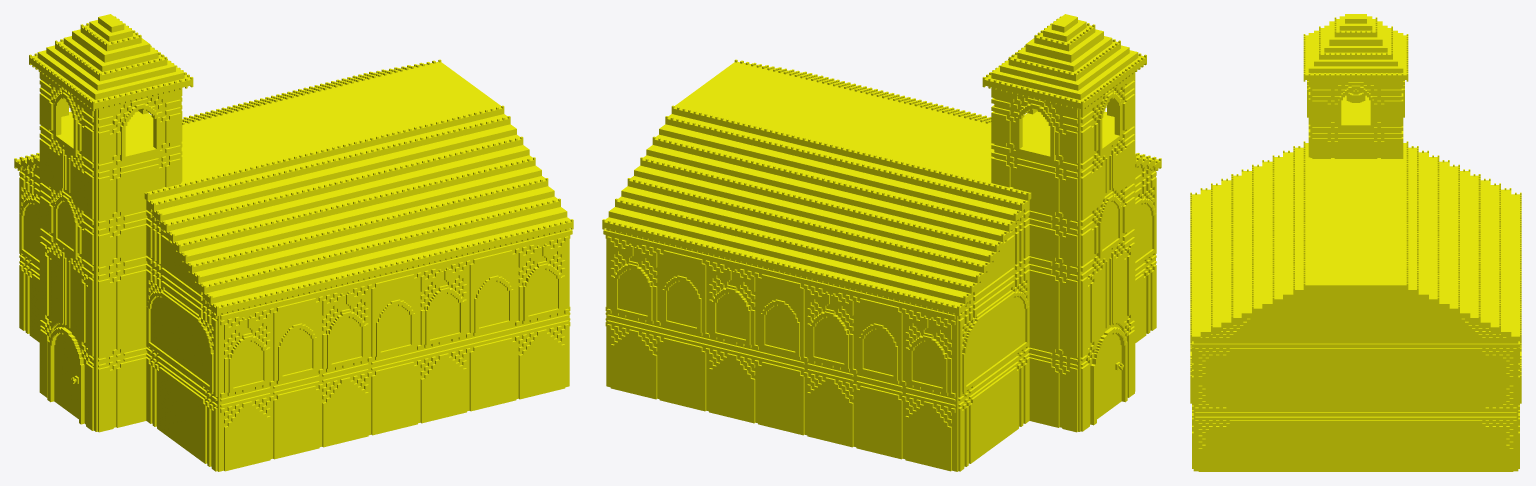
File: voxel-cathedral-cathedral.glb
3 views of the same model, side by side, from view 1: azimuth 30°, elevation 25°; view 2: azimuth 150°, elevation 25°; view 3: azimuth 270°, elevation 25° (orthographic). The views are drawn at different scales.
Parts seen in each view (by area): view 1: VS_Cathedral_Building_Cathedral_001; view 2: VS_Cathedral_Building_Cathedral_001; view 3: VS_Cathedral_Building_Cathedral_001.
Part boxes in pixels (bbox=[...]): VS_Cathedral_Building_Cathedral_001: bbox=[14, 14, 573, 471]; VS_Cathedral_Building_Cathedral_001: bbox=[602, 14, 1161, 471]; VS_Cathedral_Building_Cathedral_001: bbox=[1190, 14, 1521, 471].
Size of the model in its own units: 22.6 by 20 by 19.3.
